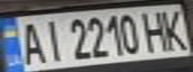0: (118, 11, 142, 55)
1: (106, 11, 124, 56)
2: (63, 15, 90, 61), (84, 12, 109, 59)
A: (15, 18, 48, 66)
H: (139, 8, 172, 53)
I: (36, 16, 66, 64)
K: (157, 6, 190, 52)
